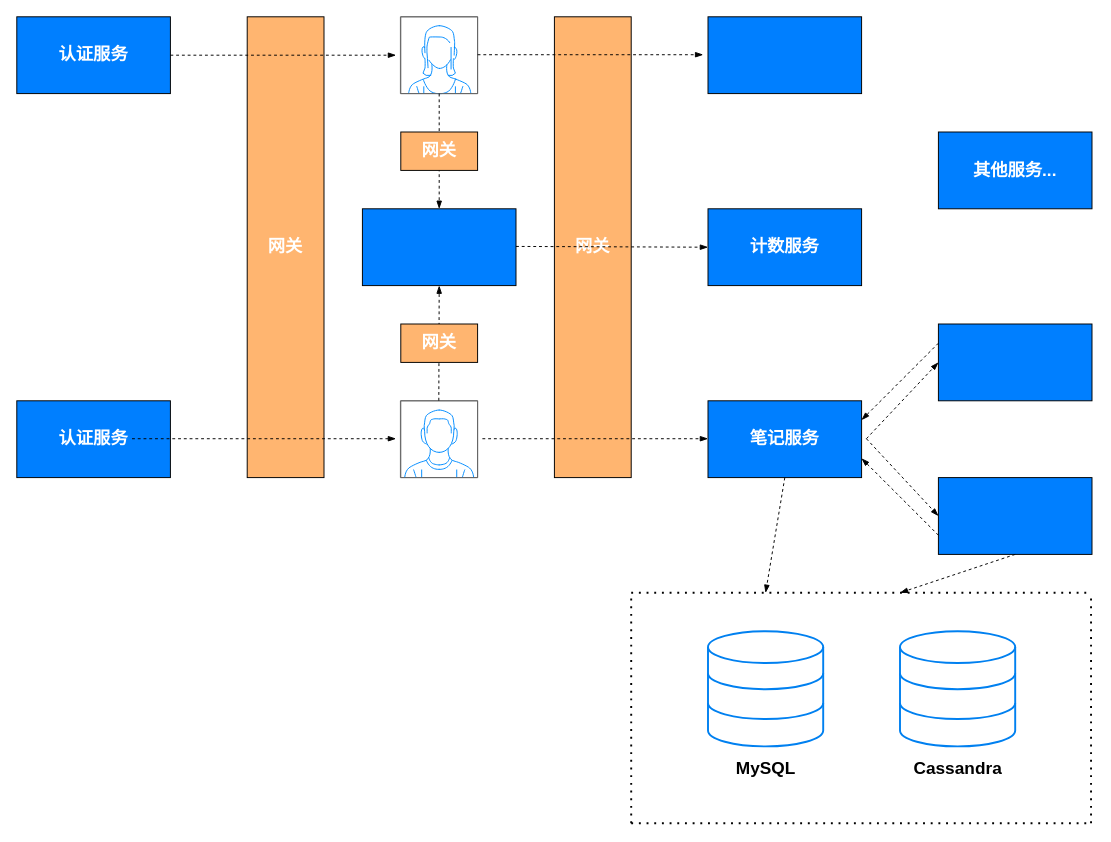
This 1111x842 diagram has some shape labels left out. Each missing label, with the box of its shape:
KV键值服务: (937, 477, 1092, 554)
分布式ID服务: (937, 323, 1092, 401)
对象存储服务: (707, 16, 862, 94)
用户关系服务: (361, 208, 516, 286)
